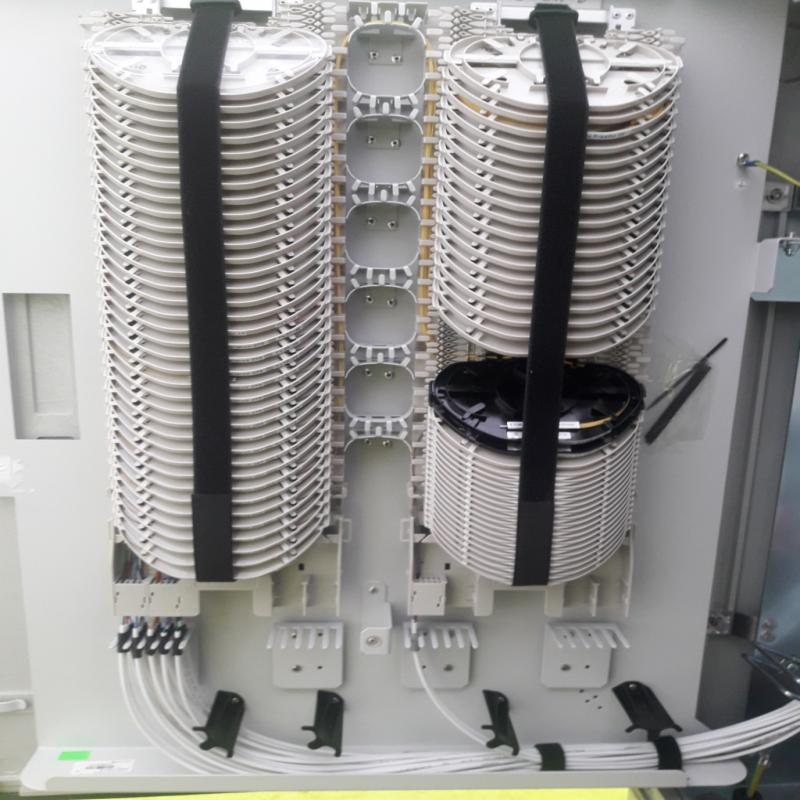NT-Gehause: (0, 0, 799, 800)
Spleiskassetten: (422, 2, 694, 596), (84, 5, 343, 584)
